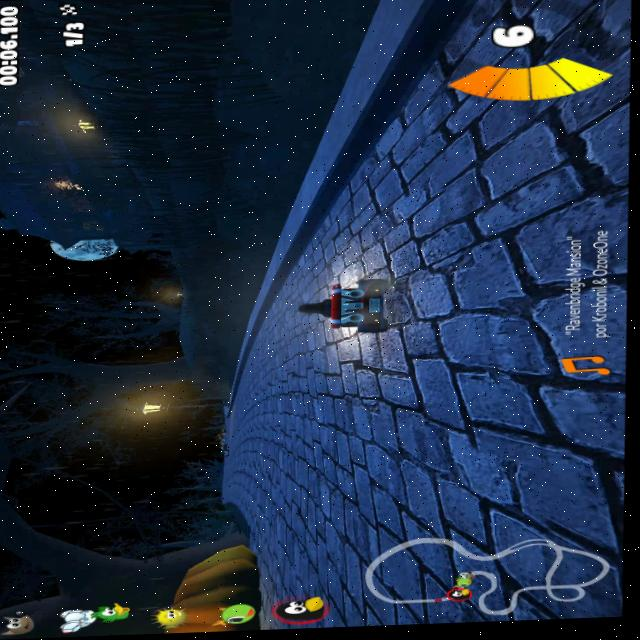player_kart: (299, 272, 396, 340)
track: (261, 328, 635, 630), (396, 0, 640, 339), (322, 156, 403, 275), (211, 402, 273, 502), (263, 274, 302, 342), (226, 343, 265, 403), (363, 121, 402, 158), (233, 493, 267, 519)
